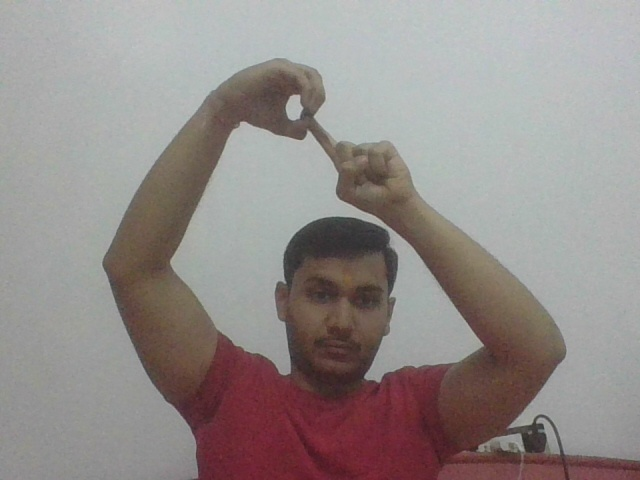Q: (248, 56, 387, 207)
